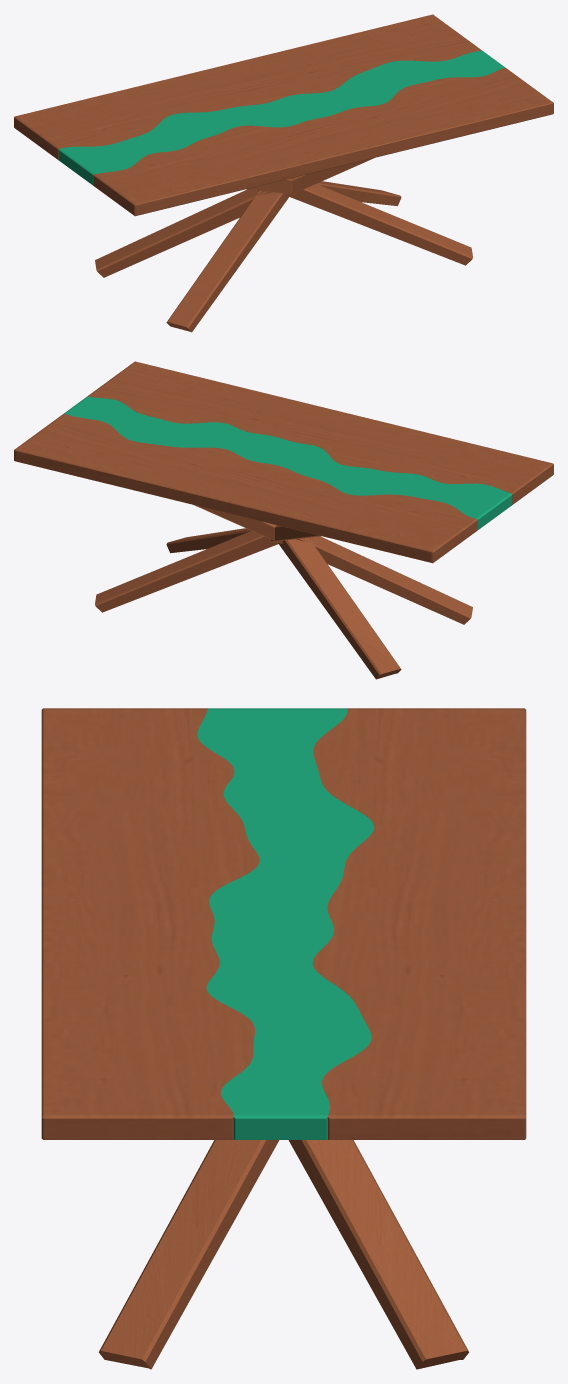
Rendered from rectangular-cherry-epoxy-emerald.glb.
3 views of the same model, one above another, from view 1: azimuth 30°, elevation 25°; view 2: azimuth 150°, elevation 25°; view 3: azimuth 270°, elevation 25° (orthographic). The views are drawn at different scales.
Parts seen in each view (by area): view 1: Wood_Rectangular_EpoxyFar, Wood_Rectangular_EpoxyNear, Base_target, Resin_Rectangular; view 2: Wood_Rectangular_EpoxyNear, Wood_Rectangular_EpoxyFar, Base_target, Resin_Rectangular; view 3: Wood_Rectangular_EpoxyNear, Wood_Rectangular_EpoxyFar, Resin_Rectangular, Base_target.
Part boxes in pixels (bbox=[...]): Wood_Rectangular_EpoxyFar: bbox=[93, 67, 553, 216]; Wood_Rectangular_EpoxyNear: bbox=[14, 14, 481, 159]; Base_target: bbox=[95, 158, 472, 332]; Resin_Rectangular: bbox=[58, 50, 504, 185]; Wood_Rectangular_EpoxyNear: bbox=[14, 413, 477, 563]; Wood_Rectangular_EpoxyFar: bbox=[88, 361, 553, 504]; Base_target: bbox=[95, 505, 472, 679]; Resin_Rectangular: bbox=[64, 396, 512, 529]; Wood_Rectangular_EpoxyNear: bbox=[312, 708, 526, 1139]; Wood_Rectangular_EpoxyFar: bbox=[41, 708, 259, 1139]; Resin_Rectangular: bbox=[197, 708, 374, 1139]; Base_target: bbox=[98, 1140, 469, 1369].
Bounding box in the file's own units: 2.13 × 0.762 × 1.07.
Materials: 2 (1 with a texture image).
